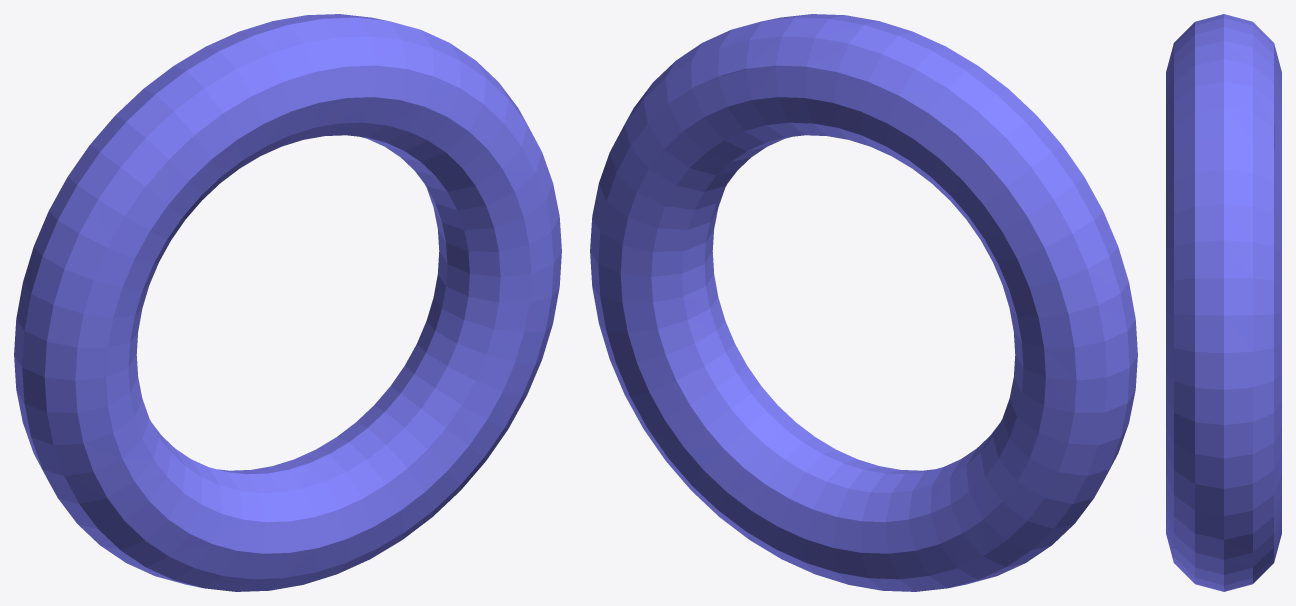
Rendered from ring.obj.
3 views of the same model, side by side, from view 1: azimuth 30°, elevation 25°; view 2: azimuth 150°, elevation 25°; view 3: azimuth 270°, elevation 25° (orthographic). The views are drawn at different scales.
Parts seen in each view (by area): view 1: Torus; view 2: Torus; view 3: Torus.
Boxes of the visible parts, <box> form: Torus: <box>14,14,561,591</box>; Torus: <box>590,14,1137,591</box>; Torus: <box>1166,14,1281,591</box>.
Bounding box in the file's own units: 2.5 × 2.5 × 0.5.
Materials: 1 (1 with a texture image).
